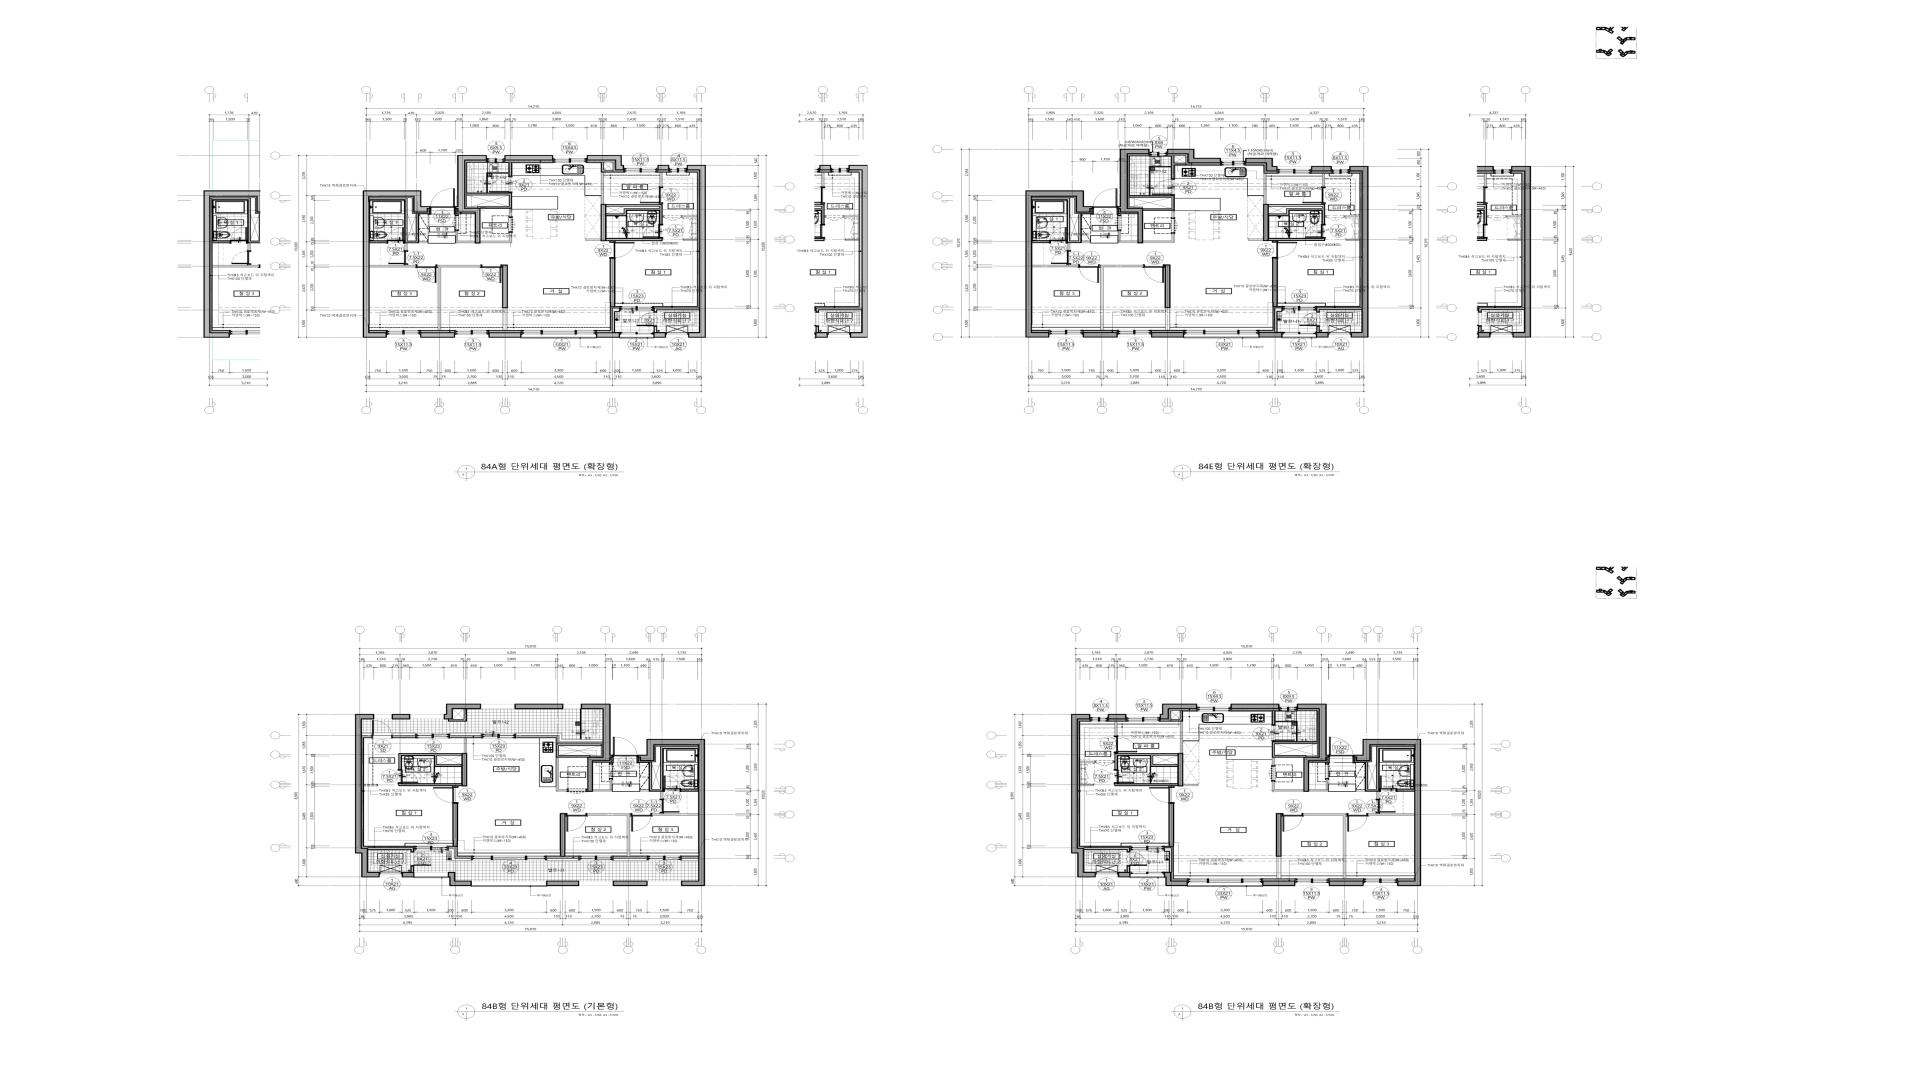door: (430, 188, 455, 215), (1093, 188, 1117, 215), (1329, 737, 1354, 757), (613, 737, 637, 757), (609, 241, 635, 259), (1149, 786, 1175, 804), (1272, 241, 1297, 259), (433, 786, 458, 804), (1143, 264, 1165, 283), (416, 264, 438, 283), (1079, 264, 1101, 283), (565, 813, 587, 832), (1346, 813, 1368, 832), (630, 813, 652, 832), (481, 264, 502, 283), (1282, 813, 1303, 832), (1303, 187, 1326, 204), (640, 187, 663, 204), (489, 176, 512, 193), (1114, 736, 1137, 753), (1271, 725, 1295, 741), (372, 720, 392, 739), (1152, 179, 1175, 195), (1299, 312, 1320, 327), (1049, 227, 1067, 244), (1376, 799, 1396, 814), (397, 769, 418, 783), (1305, 224, 1326, 238), (387, 227, 404, 244), (660, 799, 679, 814), (643, 224, 663, 238), (388, 251, 408, 265), (1051, 251, 1071, 265), (1127, 852, 1147, 866), (1114, 769, 1134, 783), (664, 776, 681, 792), (1380, 776, 1397, 792), (1325, 215, 1345, 221), (1095, 760, 1115, 766), (663, 215, 682, 221), (508, 217, 515, 233), (1325, 764, 1332, 779), (1269, 766, 1276, 781), (567, 789, 587, 794), (1172, 218, 1178, 233)
wall: (1025, 190, 1093, 338), (637, 739, 705, 886), (363, 190, 430, 338), (1354, 739, 1421, 886), (355, 714, 380, 878), (1071, 714, 1096, 878), (1349, 166, 1369, 338), (687, 165, 706, 338), (369, 198, 428, 251), (1356, 746, 1415, 799), (1118, 149, 1150, 244), (455, 155, 487, 244), (581, 704, 613, 792), (1297, 704, 1329, 792), (1100, 265, 1143, 330), (438, 265, 481, 330), (1303, 814, 1346, 879), (640, 746, 698, 792), (1032, 198, 1090, 243), (556, 744, 602, 792), (587, 814, 630, 856), (1272, 741, 1318, 766), (606, 204, 663, 224), (1269, 204, 1325, 224), (466, 193, 512, 217), (1129, 196, 1175, 218), (398, 753, 461, 769), (1115, 753, 1178, 769), (516, 733, 603, 742), (1167, 149, 1221, 163), (1160, 704, 1197, 720), (444, 704, 481, 719), (587, 155, 624, 170), (601, 162, 613, 204), (1171, 711, 1183, 753), (1245, 158, 1278, 171), (1272, 781, 1304, 792), (1171, 156, 1186, 179), (448, 872, 472, 886), (1164, 872, 1188, 886), (480, 233, 512, 243), (504, 155, 553, 161), (1143, 234, 1175, 243), (1272, 259, 1278, 307), (448, 849, 471, 861), (1276, 813, 1282, 857), (452, 804, 458, 847), (502, 265, 508, 308), (1165, 265, 1171, 308), (448, 709, 467, 722), (593, 779, 612, 792), (1309, 779, 1328, 792), (1231, 704, 1280, 709), (514, 704, 563, 709), (455, 231, 475, 243), (610, 259, 615, 307), (1118, 231, 1137, 243), (1263, 204, 1269, 241), (560, 813, 565, 857), (1169, 804, 1174, 847), (1083, 332, 1118, 338), (420, 332, 455, 338), (1151, 332, 1184, 338), (488, 332, 521, 338), (398, 783, 462, 786), (1274, 308, 1282, 332), (612, 308, 620, 332), (1164, 848, 1172, 872), (1115, 783, 1178, 786), (601, 204, 606, 241), (368, 848, 414, 852), (1316, 308, 1362, 312), (1084, 848, 1130, 852), (654, 308, 699, 312), (613, 881, 648, 886), (1329, 881, 1364, 886), (606, 238, 663, 241), (1178, 753, 1183, 787), (462, 753, 467, 787), (1269, 238, 1325, 241), (546, 881, 579, 886), (1262, 881, 1295, 886), (1259, 332, 1283, 338), (596, 332, 620, 338), (1311, 166, 1332, 172), (1165, 308, 1170, 330), (1108, 714, 1127, 719), (1368, 814, 1415, 816), (450, 733, 481, 736), (652, 814, 698, 816), (1032, 265, 1078, 267), (370, 265, 416, 267), (392, 714, 410, 719), (1264, 174, 1267, 204), (503, 308, 507, 330), (1277, 857, 1281, 879), (1316, 332, 1329, 338), (653, 332, 666, 338), (402, 872, 414, 878), (1118, 872, 1130, 878), (392, 733, 415, 736), (613, 859, 647, 861), (547, 859, 579, 861), (1272, 710, 1276, 725), (658, 165, 669, 170), (369, 240, 387, 243), (1397, 789, 1415, 792), (681, 789, 698, 792), (1032, 240, 1049, 243), (509, 162, 512, 176), (1115, 722, 1118, 736), (1322, 174, 1325, 187), (682, 859, 698, 861), (362, 733, 372, 736), (586, 239, 601, 241), (1248, 239, 1263, 241), (1080, 761, 1095, 763), (1346, 239, 1360, 241), (660, 173, 662, 187), (683, 239, 697, 241), (1067, 243, 1070, 251), (660, 792, 663, 799), (1316, 327, 1320, 332), (411, 866, 414, 872), (1127, 866, 1130, 872), (1345, 216, 1360, 217), (682, 216, 697, 217), (654, 327, 657, 332), (1080, 785, 1094, 786), (1325, 763, 1329, 764), (1118, 214, 1121, 215), (610, 763, 612, 764)
window: (521, 330, 596, 339), (1184, 330, 1259, 338), (472, 881, 546, 887), (471, 856, 547, 861), (1188, 878, 1262, 883), (1188, 883, 1262, 887), (1197, 704, 1231, 712), (1295, 878, 1329, 886), (624, 165, 657, 173), (1364, 878, 1397, 886), (553, 156, 587, 163), (1049, 330, 1083, 337), (455, 330, 488, 337), (387, 330, 420, 337), (620, 332, 653, 339), (1278, 167, 1311, 174), (1118, 330, 1151, 337), (1127, 715, 1160, 722), (1283, 332, 1316, 338), (1131, 872, 1164, 878), (1221, 158, 1245, 166), (415, 734, 450, 739), (481, 734, 516, 739), (647, 856, 682, 861), (1282, 306, 1316, 311), (620, 306, 654, 311), (1130, 846, 1164, 851), (414, 846, 448, 851), (414, 873, 448, 878), (579, 881, 613, 886), (579, 856, 613, 861), (481, 704, 514, 709), (648, 881, 681, 886), (669, 165, 687, 173), (1150, 149, 1167, 157), (410, 715, 444, 719), (1280, 704, 1297, 712), (1090, 715, 1108, 722), (487, 156, 504, 163), (1332, 167, 1349, 174), (1329, 332, 1351, 337), (380, 872, 402, 877), (1096, 872, 1118, 877), (563, 704, 581, 709), (666, 333, 688, 337), (374, 715, 392, 719)
